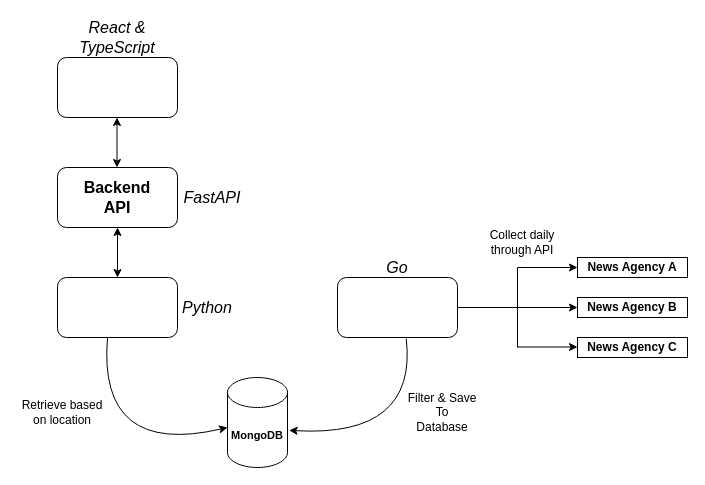
The diagram is 705 pixels wide and 485 high, and some of its shapes have lost their labels. Each missing label, with the centre of its shape:
Frontend: [117,87]
News Collector: [397,307]
News Delivery: [117,307]
